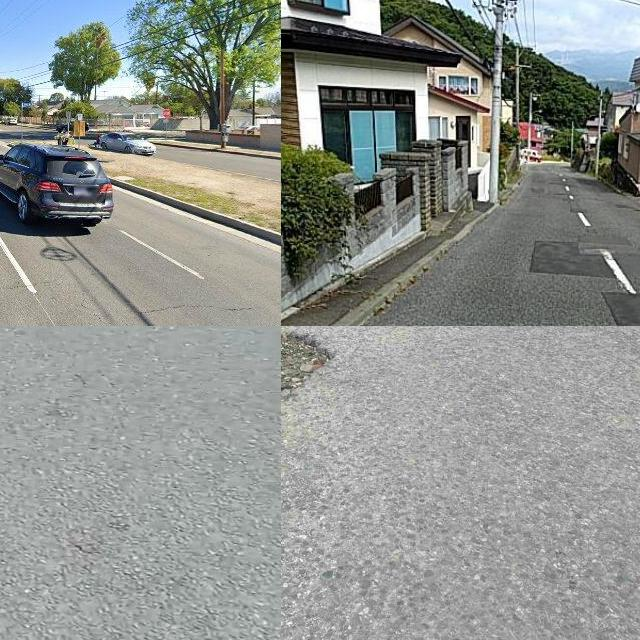Pinggir: (281, 326, 349, 423)
Sambungan: (532, 241, 615, 273)
